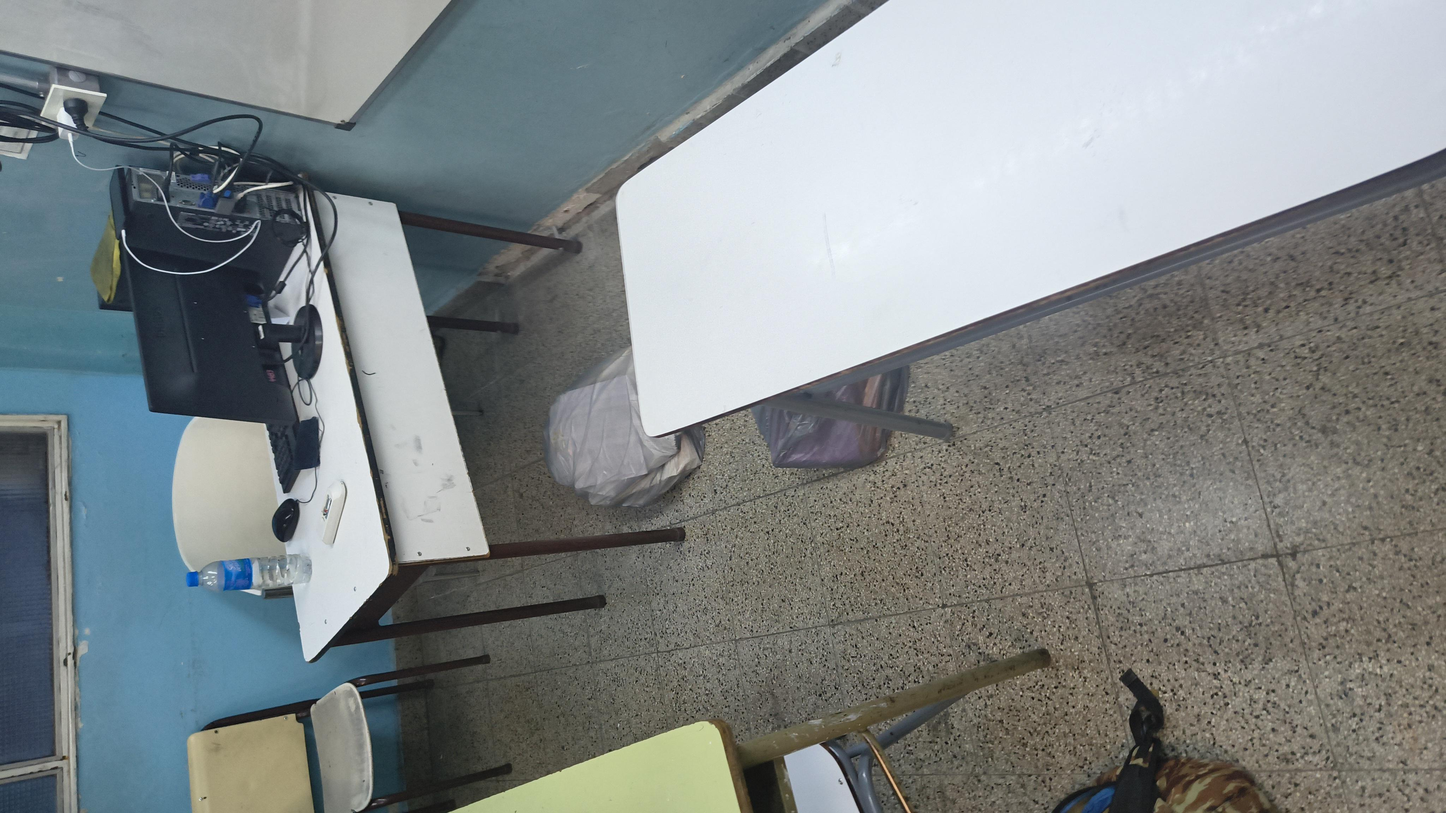Garbage: (515, 284, 860, 409), (577, 397, 891, 522)
